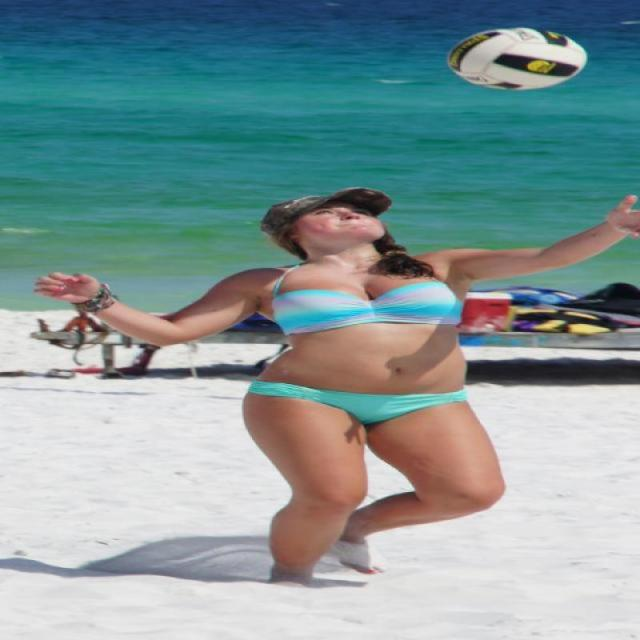volleyball: (445, 26, 590, 92)
